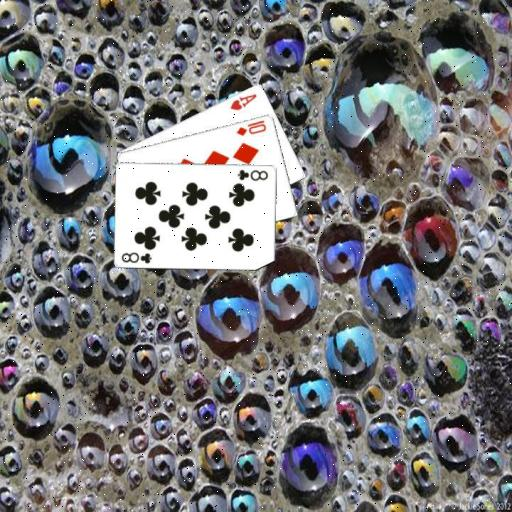10D: (233, 117, 268, 137)
8C: (235, 166, 270, 182), (119, 249, 154, 265)
AH: (227, 90, 259, 112)
